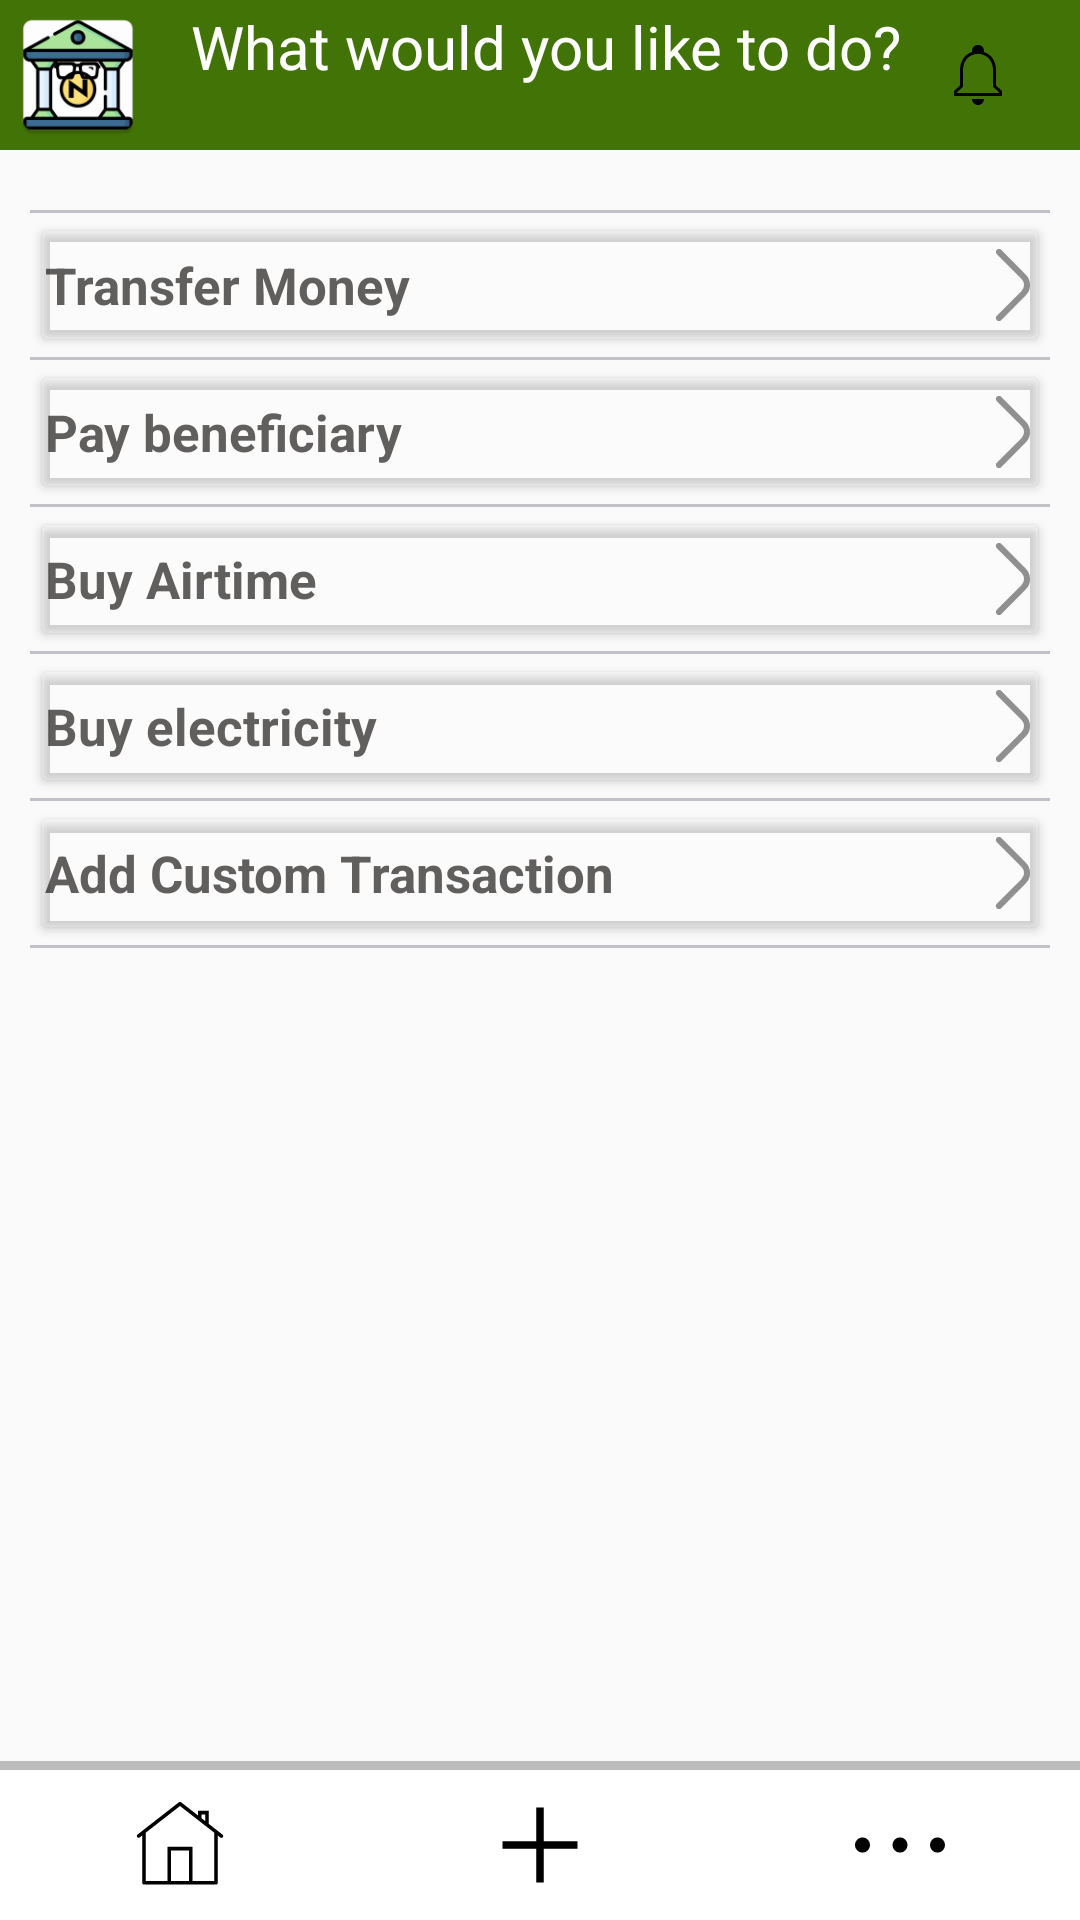

Icons on this 1080px×1920px Android screen, each with the point to tap as [x,y]:
arrow: [1017,285], [1017,432], [1017,579], [1017,726], [1017,873]
dots: [900,1845]
home: [180,1843]
notifications: [978,75]
transact: [540,1845]
